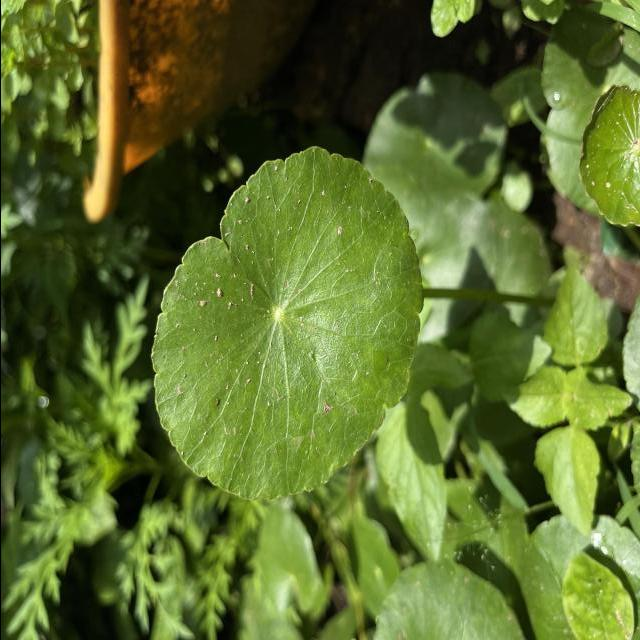Bacopa monnieri: (144, 142, 428, 506), (574, 79, 640, 231)
